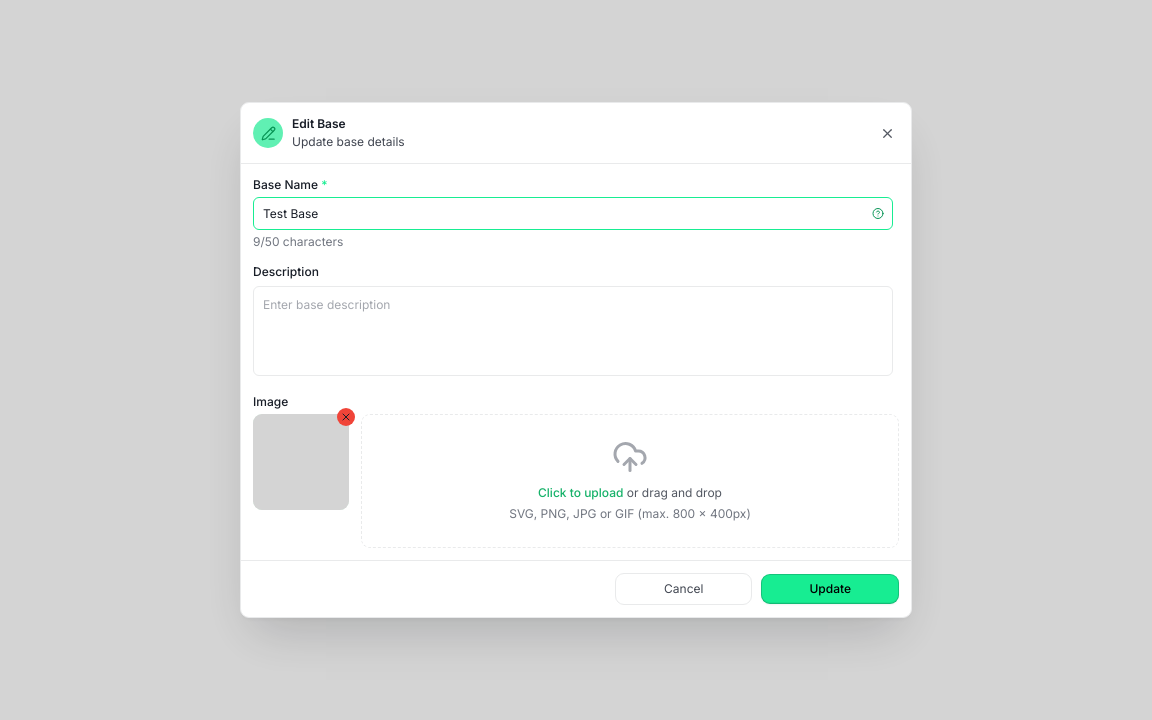
Test: EditItemModal › image upload for base type › clears image preview when remove button is clicked
Click the 3rd button. click: (346, 417)
box: [337,408,355,426]
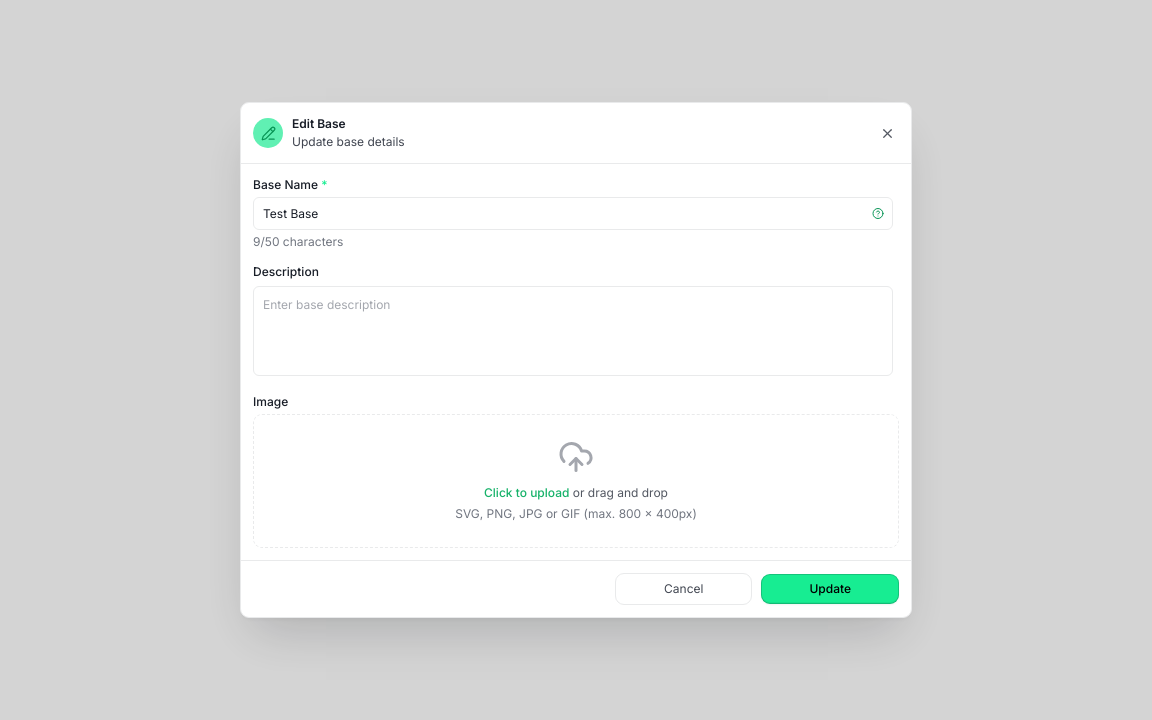
Now the picture with alt text "Preview" is gone
